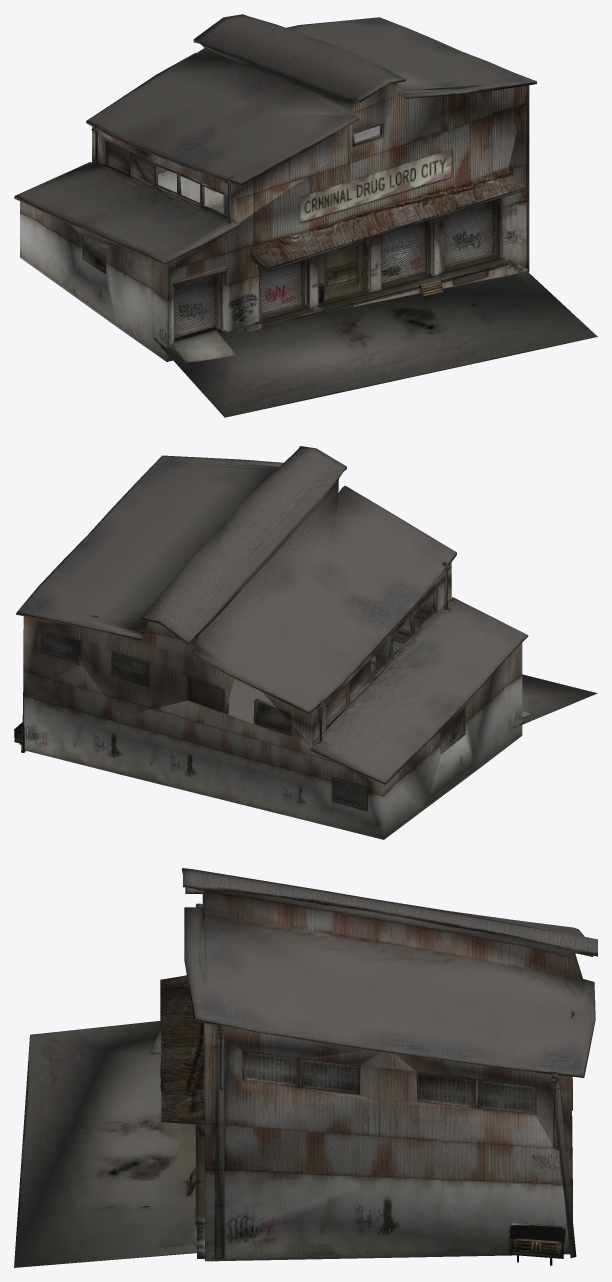
The model's file is CDL_Mesh_Warehouse.glb.
3 views of the same model, one above another, from view 1: azimuth 30°, elevation 25°; view 2: azimuth 150°, elevation 25°; view 3: azimuth 270°, elevation 25° (orthographic). The views are drawn at different scales.
Parts seen in each view (by area): view 1: tripo_node_60d550a0-3db1-45b5-8ab7-c6355e08d687; view 2: tripo_node_60d550a0-3db1-45b5-8ab7-c6355e08d687; view 3: tripo_node_60d550a0-3db1-45b5-8ab7-c6355e08d687.
Boxes of the visible parts, x1,y1,x2,y2 form: tripo_node_60d550a0-3db1-45b5-8ab7-c6355e08d687: (14,14,597,417); tripo_node_60d550a0-3db1-45b5-8ab7-c6355e08d687: (14,446,597,839); tripo_node_60d550a0-3db1-45b5-8ab7-c6355e08d687: (14,868,597,1267).
Size of the model in its own units: 0.9629 by 0.5801 by 0.998.
1 material, 1 textured.
